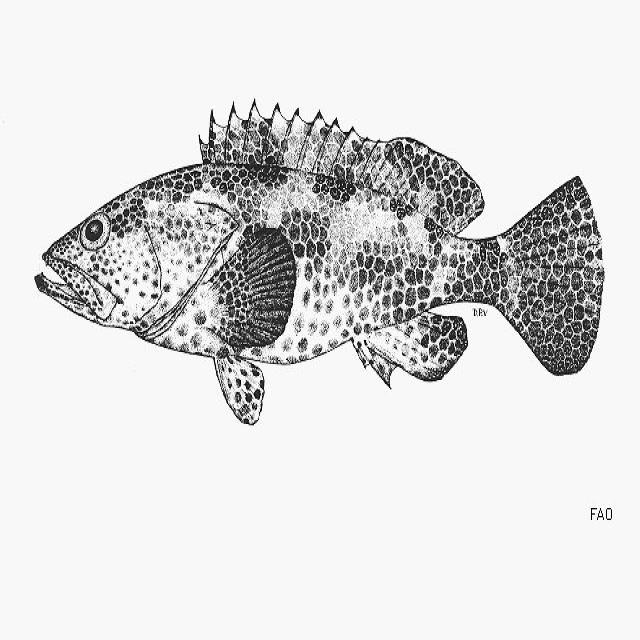ikan: (34, 98, 604, 426)
